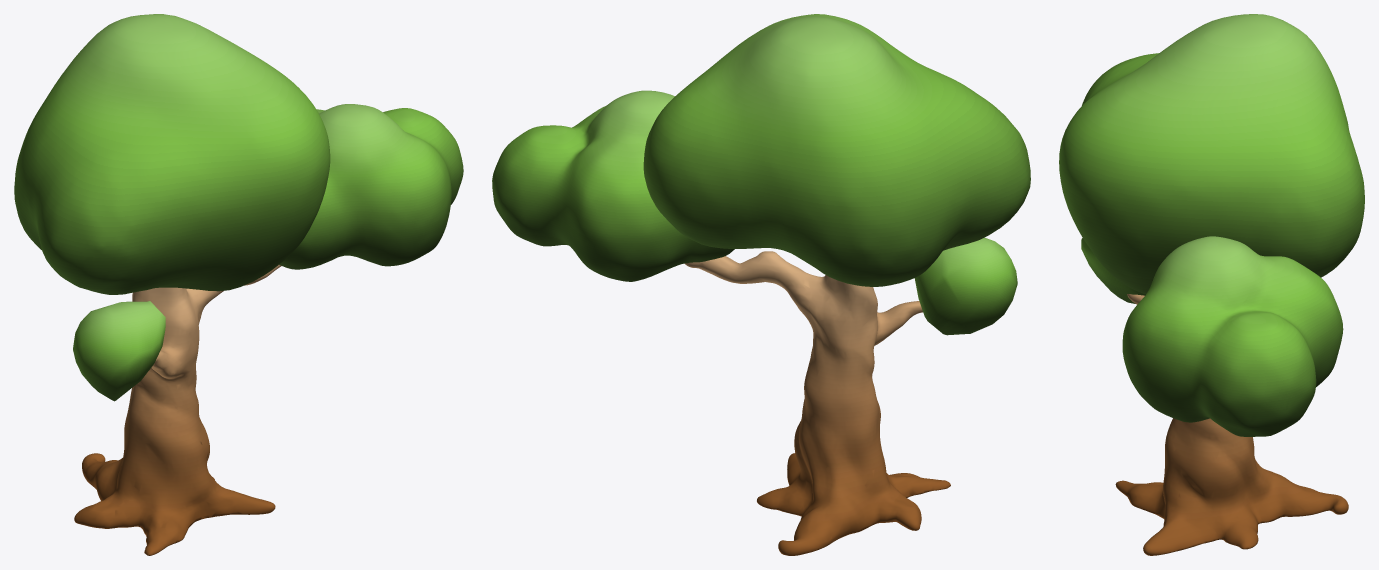
Rendered from Trunk1 B1G2.fbx.
The picture shows the model from 3 angles, left to right: view 1: azimuth 30°, elevation 25°; view 2: azimuth 150°, elevation 25°; view 3: azimuth 270°, elevation 25°; orthographic projection. The views are drawn at different scales.
Visible parts, largest first — view 1: Trunk1Leaves 3.001, Trunk1 B1, Trunk1 Leaves1.001, Trunk1 Leaves2.001; view 2: Trunk1Leaves 3.001, Trunk1 B1, Trunk1 Leaves1.001, Trunk1 Leaves2.001; view 3: Trunk1Leaves 3.001, Trunk1 Leaves1.001, Trunk1 B1, Trunk1 Leaves2.001.
Boxes of the visible parts, left/top/right/bottom form: Trunk1Leaves 3.001: left=14, top=14, right=330, bottom=294; Trunk1 B1: left=74, top=265, right=281, bottom=555; Trunk1 Leaves1.001: left=279, top=104, right=463, bottom=269; Trunk1 Leaves2.001: left=73, top=301, right=165, bottom=401; Trunk1Leaves 3.001: left=643, top=14, right=1030, bottom=286; Trunk1 B1: left=685, top=251, right=950, bottom=555; Trunk1 Leaves1.001: left=492, top=90, right=734, bottom=281; Trunk1 Leaves2.001: left=914, top=237, right=1017, bottom=335; Trunk1Leaves 3.001: left=1059, top=14, right=1364, bottom=294; Trunk1 Leaves1.001: left=1122, top=236, right=1343, bottom=436; Trunk1 B1: left=1115, top=294, right=1348, bottom=555; Trunk1 Leaves2.001: left=1081, top=238, right=1145, bottom=303.
Size of the model in its own units: 74.35 by 40.89 by 72.91.
